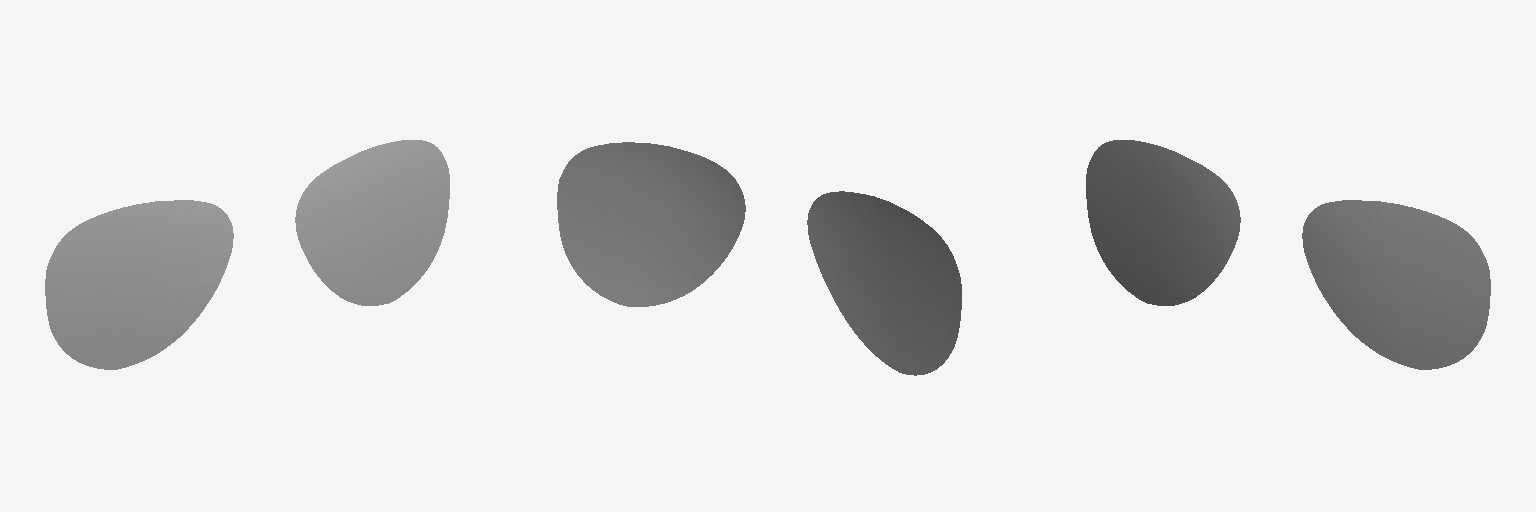
File: lensesModel4.obj
The picture shows the model from 3 angles: view 1: azimuth 30°, elevation 25°; view 2: azimuth 150°, elevation 25°; view 3: azimuth 330°, elevation 25°; orthographic projection.
Parts seen in each view (by area): view 1: gl.005, gl.003; view 2: gl.003, gl.005; view 3: gl.003, gl.005.
Boxes of the visible parts, box(x1,y1,x2,y2) form: gl.005: box(45, 200, 233, 369); gl.003: box(295, 140, 449, 305); gl.003: box(557, 142, 745, 306); gl.005: box(807, 191, 961, 375); gl.003: box(1302, 200, 1490, 369); gl.005: box(1086, 140, 1240, 305).
Size of the model in its own units: 0.1324 by 0.0515 by 0.0097.